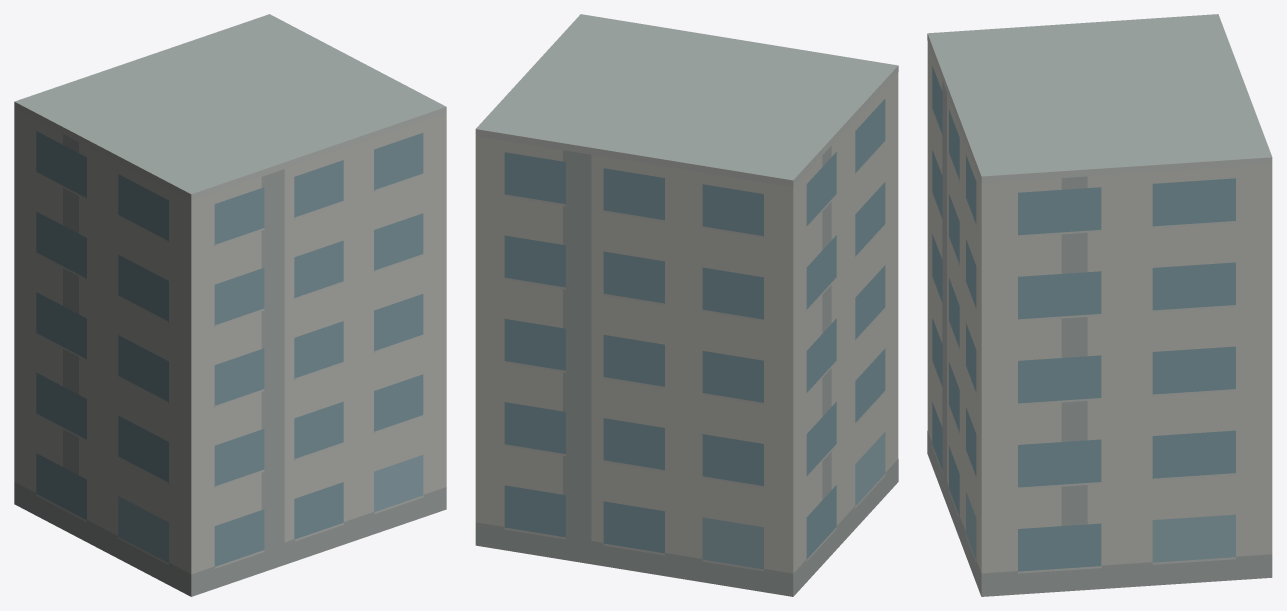
The model's file is survey-upis-32760590.glb.
3 views of the same model, side by side, from view 1: azimuth 30°, elevation 25°; view 2: azimuth 150°, elevation 25°; view 3: azimuth 270°, elevation 25° (orthographic). The views are drawn at different scales.
Parts seen in each view (by area): view 1: survey-upis-32760590.tmp; view 2: survey-upis-32760590.tmp; view 3: survey-upis-32760590.tmp.
Part boxes in pixels (bbox=[...]): survey-upis-32760590.tmp: bbox=[14, 14, 446, 596]; survey-upis-32760590.tmp: bbox=[475, 14, 898, 596]; survey-upis-32760590.tmp: bbox=[927, 14, 1272, 596].
Size of the model in its own units: 12.2 by 14.7 by 10.94.
